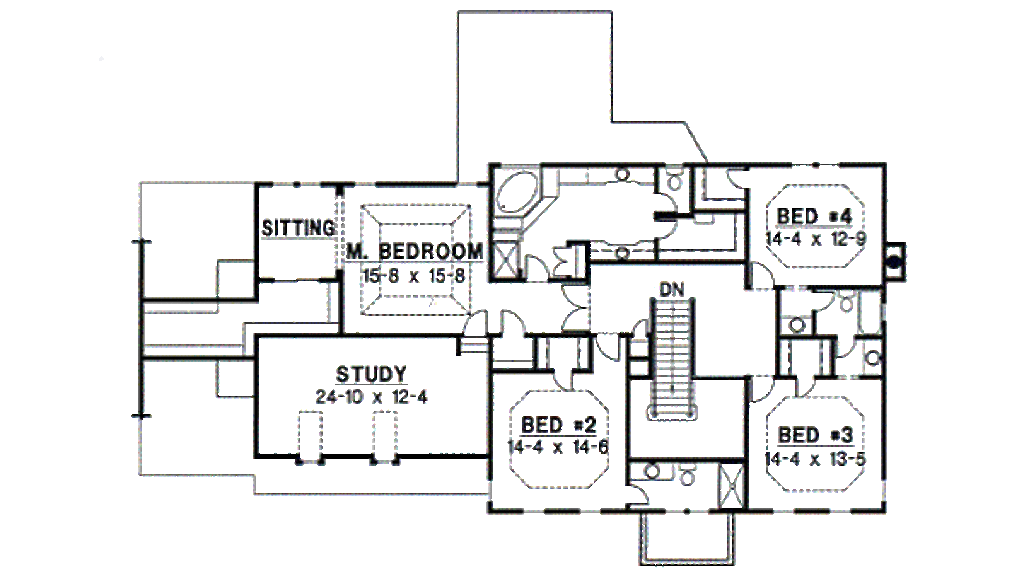door: (559, 282, 589, 333), (745, 374, 780, 407), (521, 252, 552, 283), (550, 364, 580, 394), (498, 308, 529, 337), (746, 261, 776, 290), (459, 308, 489, 335), (551, 244, 572, 282), (595, 331, 620, 362), (808, 289, 838, 314), (721, 166, 748, 191), (626, 480, 649, 507), (794, 378, 816, 396), (631, 317, 647, 340)
large_sink: (659, 163, 691, 192), (674, 460, 699, 488)
small_sink: (587, 237, 656, 261), (582, 165, 652, 184), (626, 459, 674, 480), (861, 336, 882, 378)
stairs: (647, 295, 701, 425)
tub: (493, 165, 544, 217), (853, 290, 886, 334)
